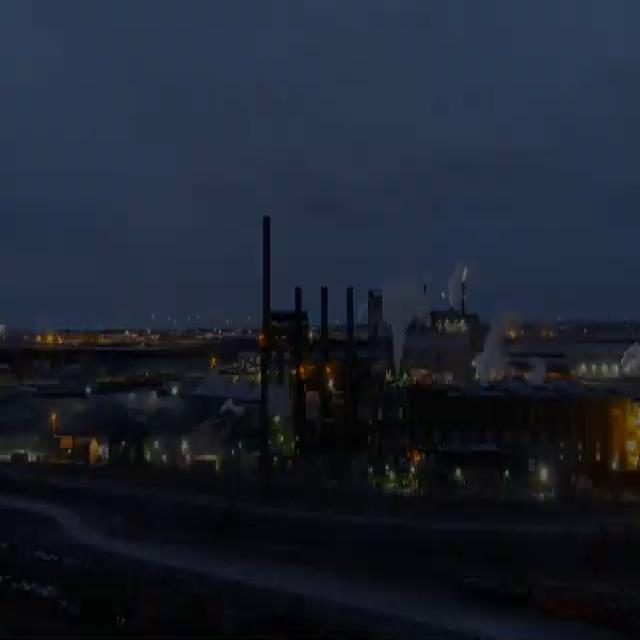smoke: (382, 279, 464, 375), (469, 335, 528, 381)
